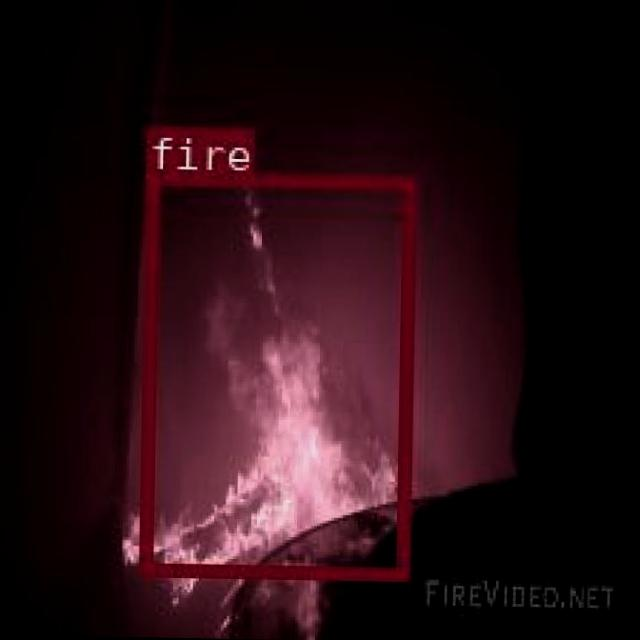fire: (138, 170, 412, 576)
